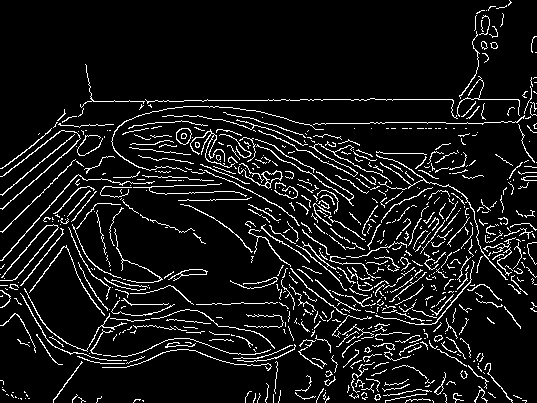cucumber: (104, 95, 484, 322)
